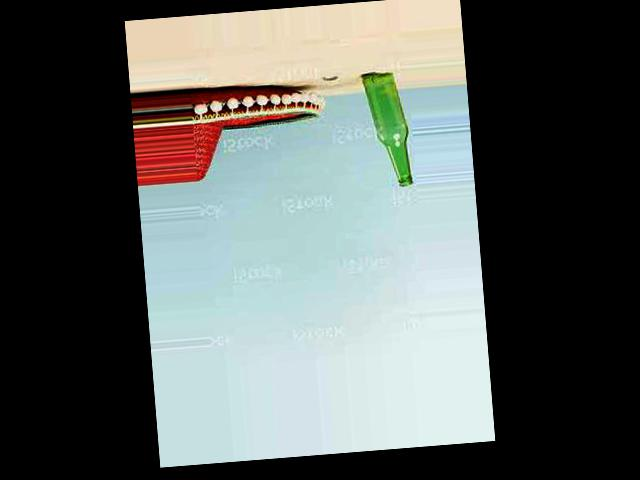beer: (360, 67, 412, 189)
